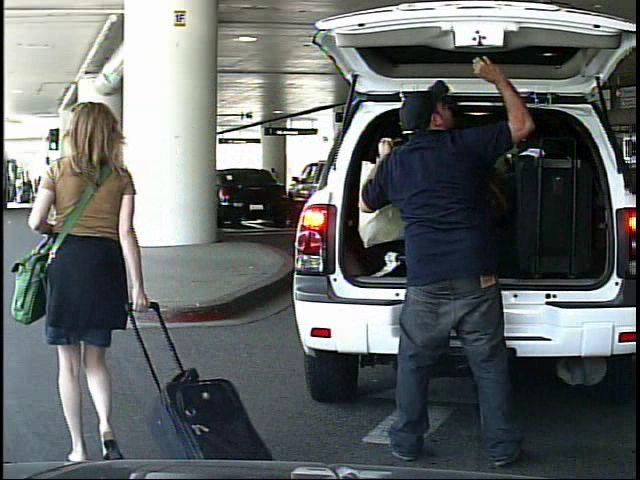person: (369, 26, 550, 478), (55, 97, 198, 447), (15, 173, 26, 204)
